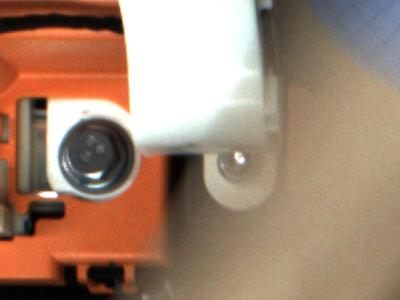nut_b: (51, 115, 133, 199)
